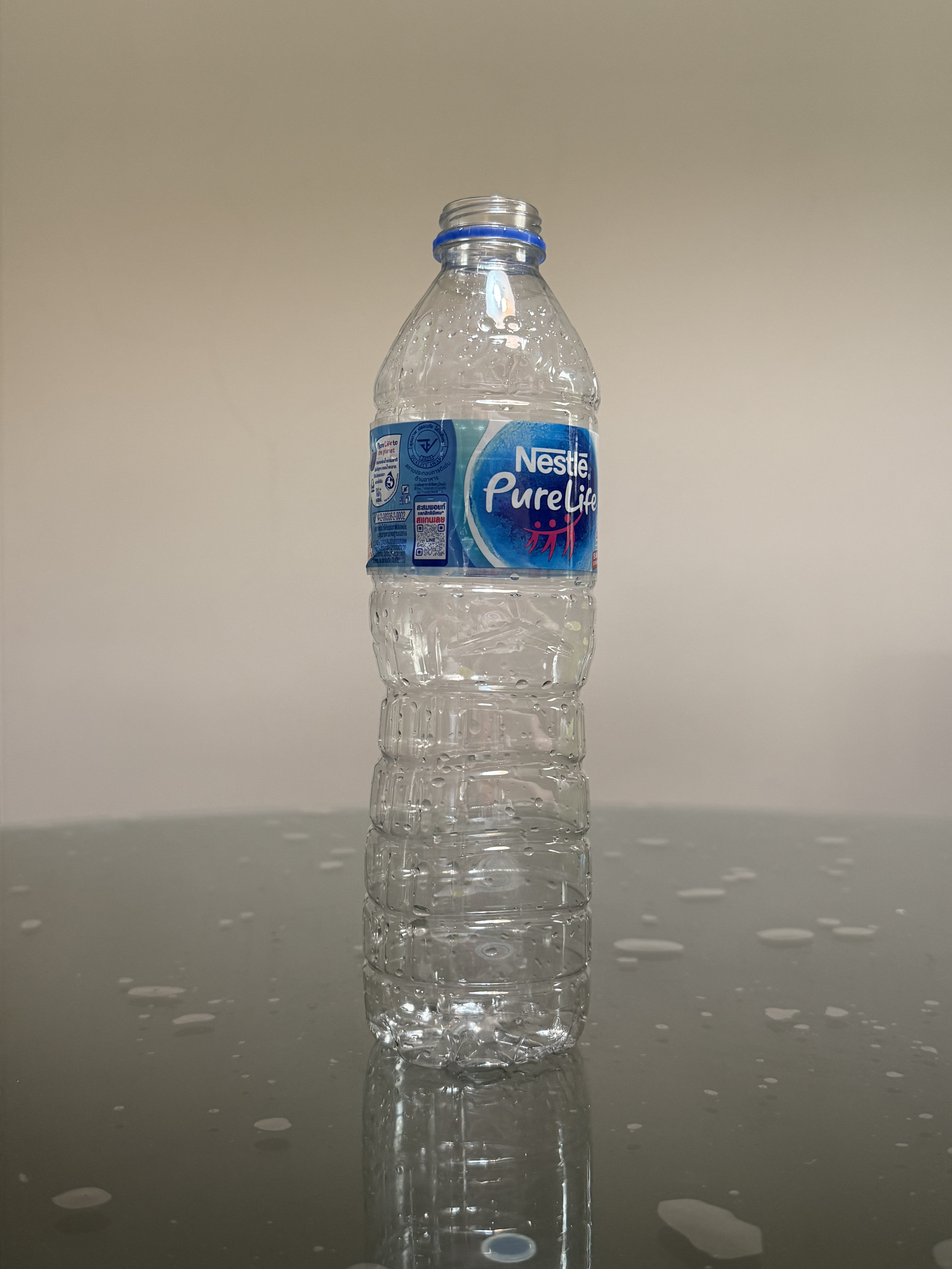no_cap: (430, 194, 551, 259)
